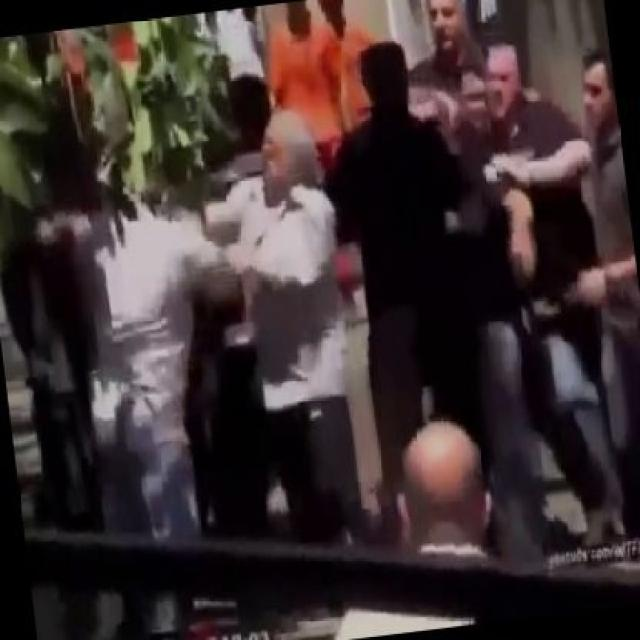fight: (328, 19, 636, 572)
